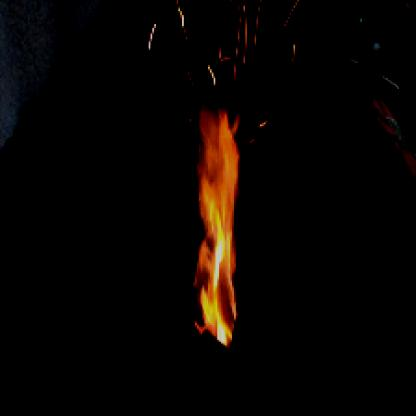Fire: (180, 93, 255, 351)
